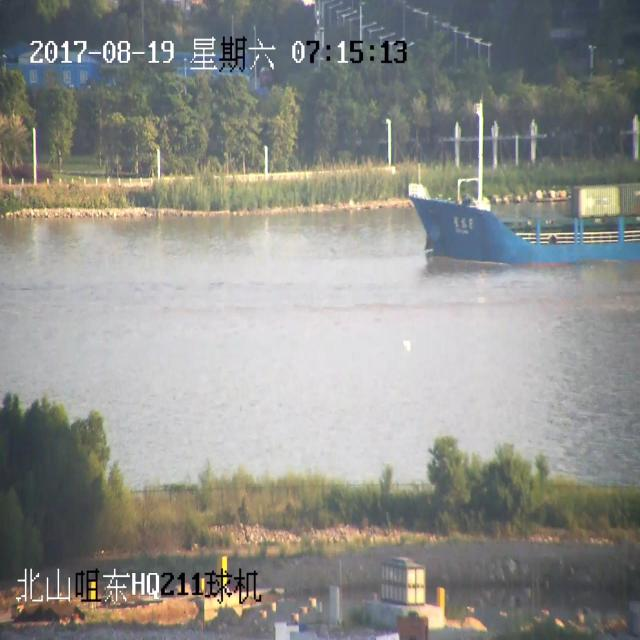cargoship: (398, 135, 640, 268)
